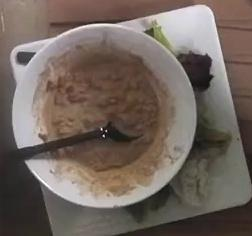cereal: (34, 49, 168, 171)
lettuce: (169, 140, 231, 209), (176, 51, 214, 91), (145, 20, 173, 53)
